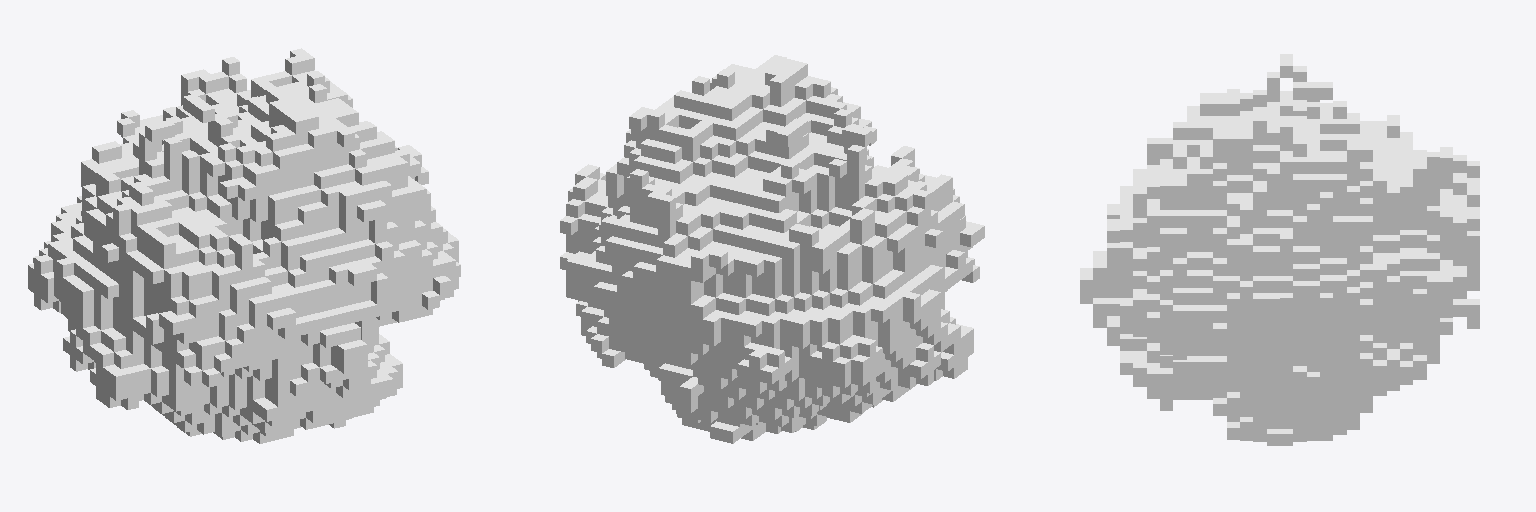
The model's file is tree2-1.obj.
The picture shows the model from 3 angles: view 1: azimuth 30°, elevation 25°; view 2: azimuth 150°, elevation 25°; view 3: azimuth 270°, elevation 25°; orthographic projection.
Parts seen in each view (by area): view 1: object 1; view 2: object 1; view 3: object 1.
Part boxes in pixels (x1,y1,x2,y2): object 1: (28,48,460,443); object 1: (560,55,984,443); object 1: (1080,54,1479,445).
Bounding box in the file's own units: 3 × 2.7 × 3.